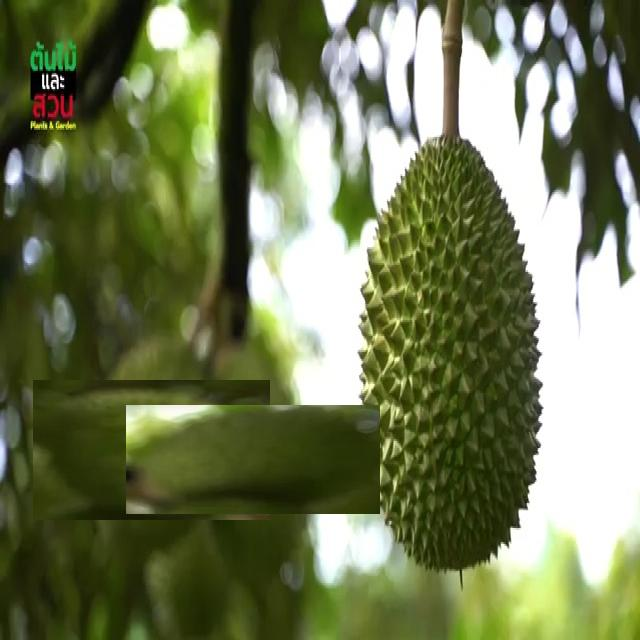durian: (355, 125, 547, 582), (57, 355, 245, 545), (162, 368, 344, 550)
